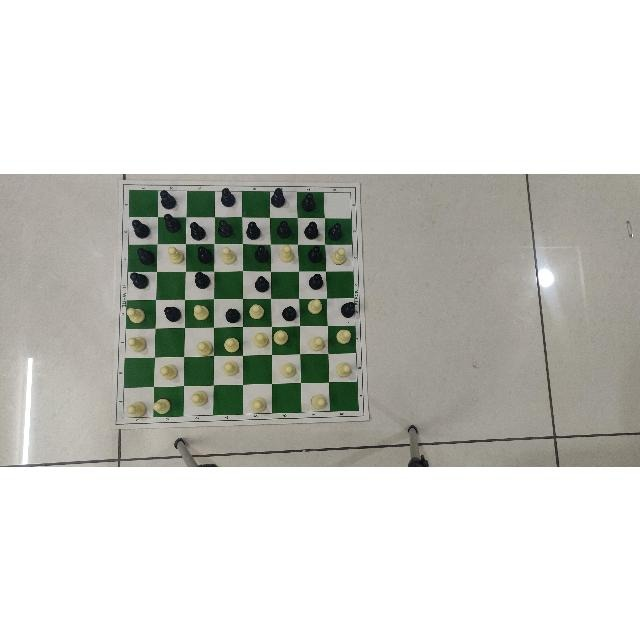black-pawn: (162, 211, 182, 232), (131, 218, 151, 238), (136, 246, 156, 266), (188, 220, 207, 240), (196, 244, 215, 264), (159, 188, 177, 209), (275, 218, 292, 240), (300, 191, 317, 213), (129, 271, 149, 289), (253, 243, 271, 263), (326, 220, 343, 241), (220, 187, 236, 209), (163, 305, 182, 323), (306, 244, 323, 264), (245, 218, 261, 239), (304, 219, 320, 240), (218, 218, 234, 238), (193, 271, 210, 289), (271, 187, 286, 207), (254, 274, 270, 292), (308, 272, 324, 290), (224, 306, 241, 322), (281, 305, 298, 321), (340, 301, 355, 319)
white-pawn: (126, 398, 146, 418), (166, 244, 185, 264), (125, 305, 145, 324), (127, 334, 147, 352), (159, 363, 178, 381), (152, 397, 171, 415), (220, 244, 237, 264), (310, 392, 328, 410), (196, 338, 214, 356), (221, 358, 240, 375), (334, 360, 351, 378), (250, 396, 268, 413), (191, 389, 208, 407), (192, 303, 209, 321), (279, 243, 295, 262), (331, 246, 347, 265), (336, 326, 352, 345), (223, 335, 240, 352), (307, 297, 323, 315), (273, 327, 289, 345), (249, 302, 265, 320), (309, 334, 325, 351), (252, 331, 269, 347), (280, 362, 296, 378)
